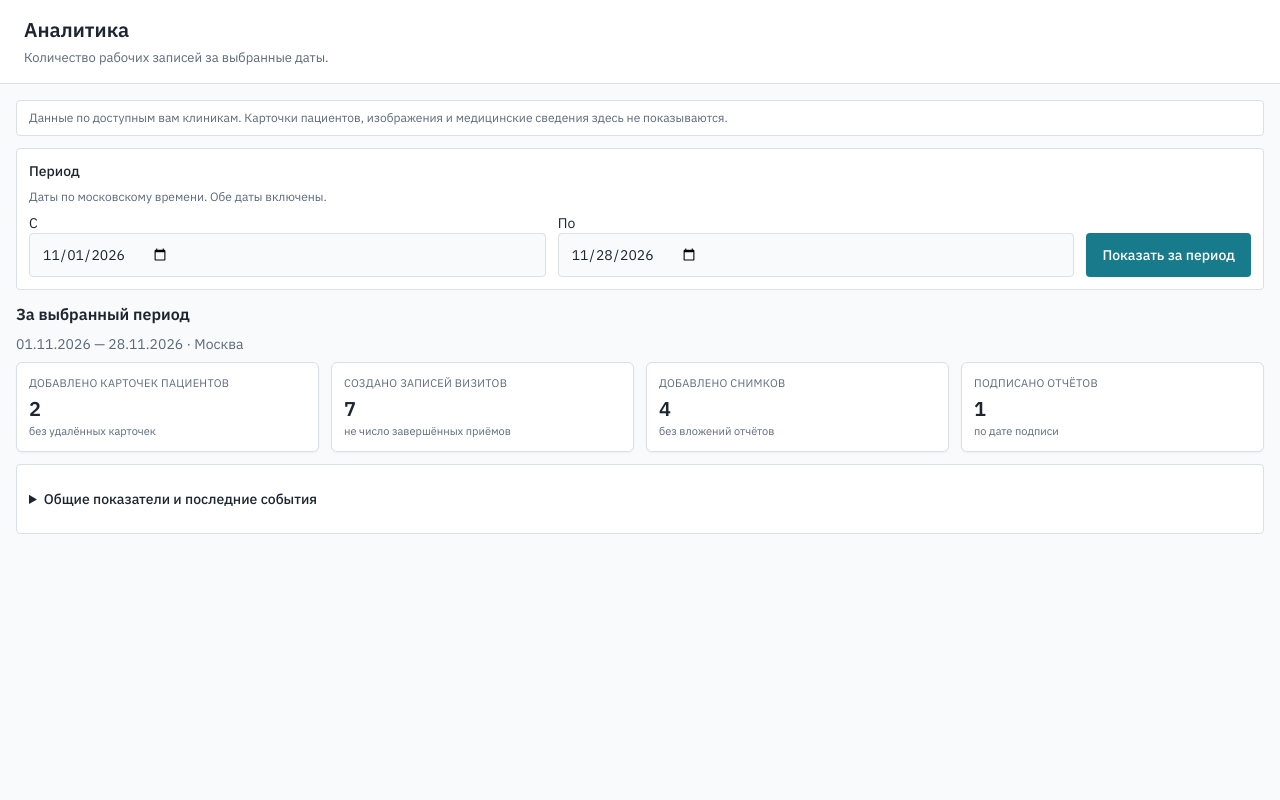
Test: does not call the API for an inverted date range
Expected: the text "7" is shown, x1=344 y1=394 x2=356 y2=422
Type "2026-07-01" into the date field labelled "С" at (287, 255), box x1=29 y1=233 x2=546 y2=277
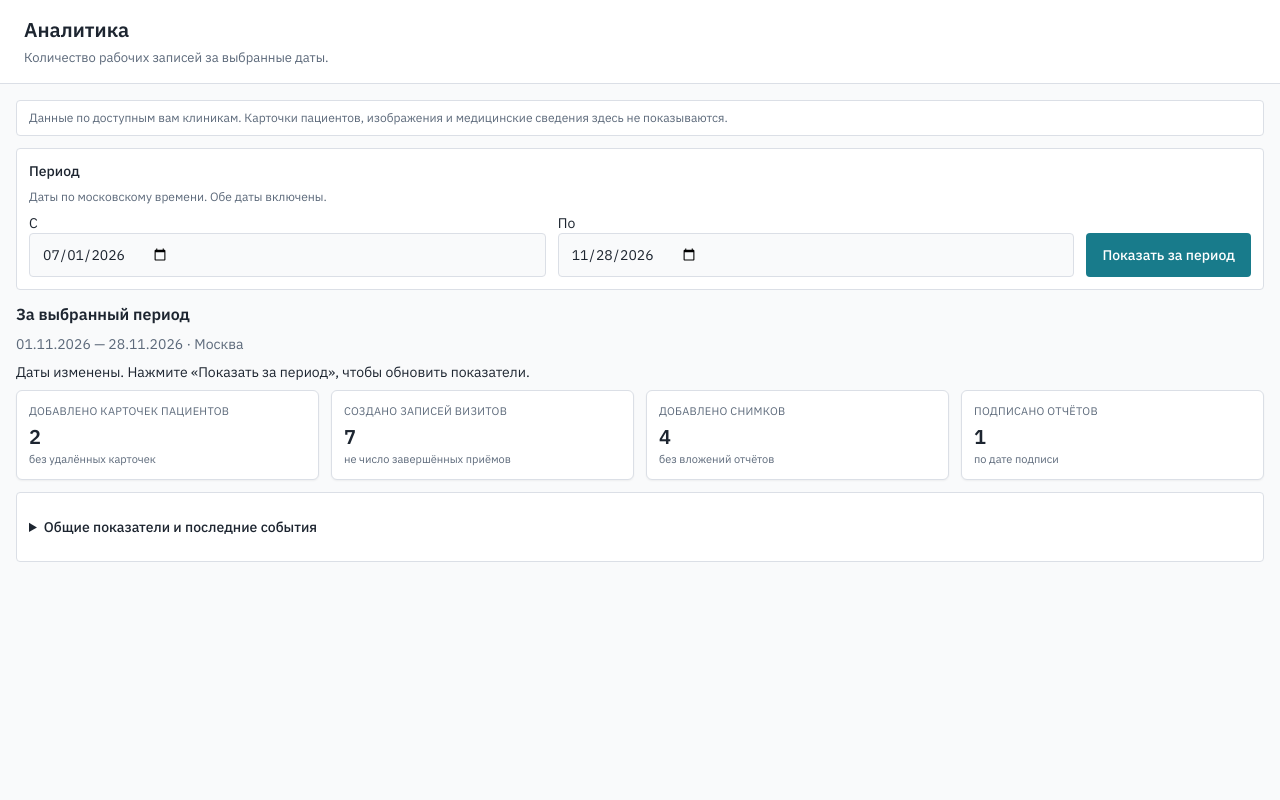
Type "2026-07-31" into the date field labelled "По" at (816, 255), box x1=558 y1=233 x2=1074 y2=277
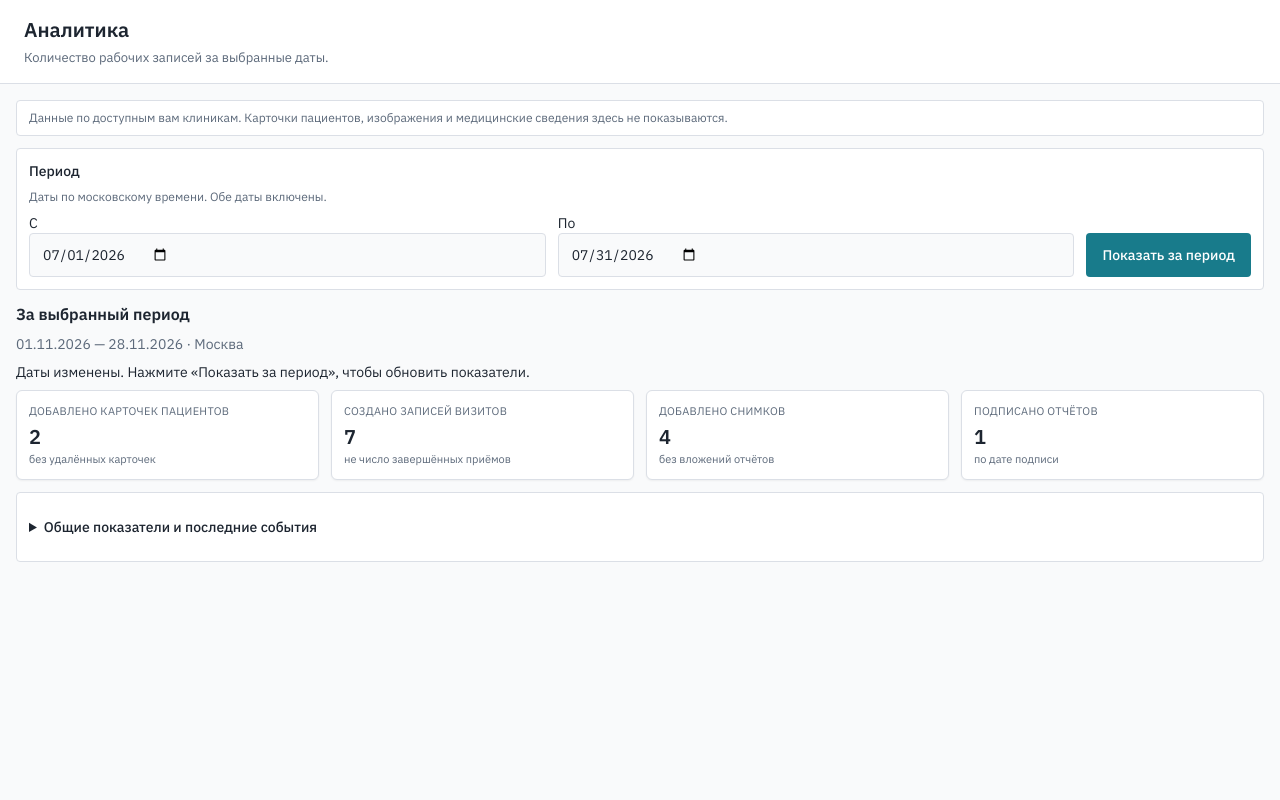
Type "2026-08-01" into the date field labelled "С" at (287, 255), box x1=29 y1=233 x2=546 y2=277
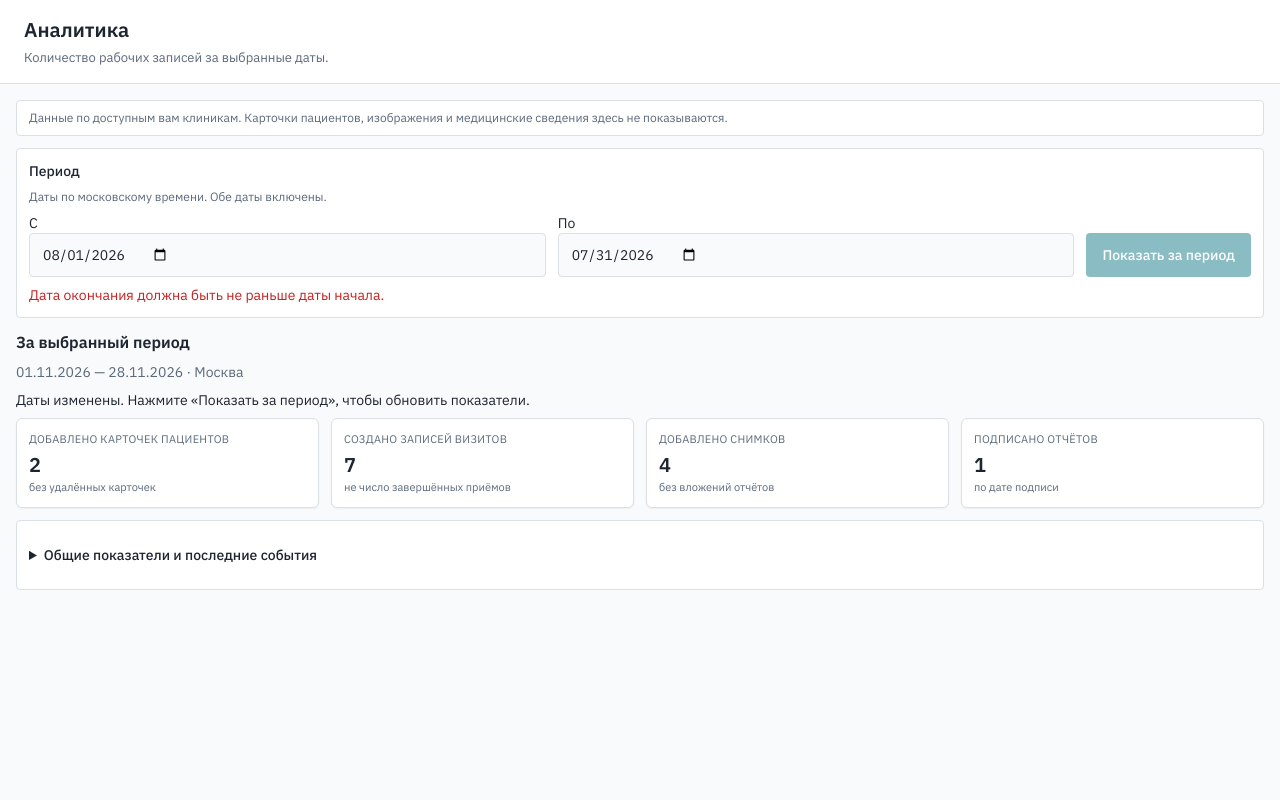
Expected: the button "Показать за период" is disabled, x1=1086 y1=233 x2=1251 y2=277
Expected: the message "Дата окончания должна быть не раньше даты начала." is shown, x1=29 y1=286 x2=384 y2=304
